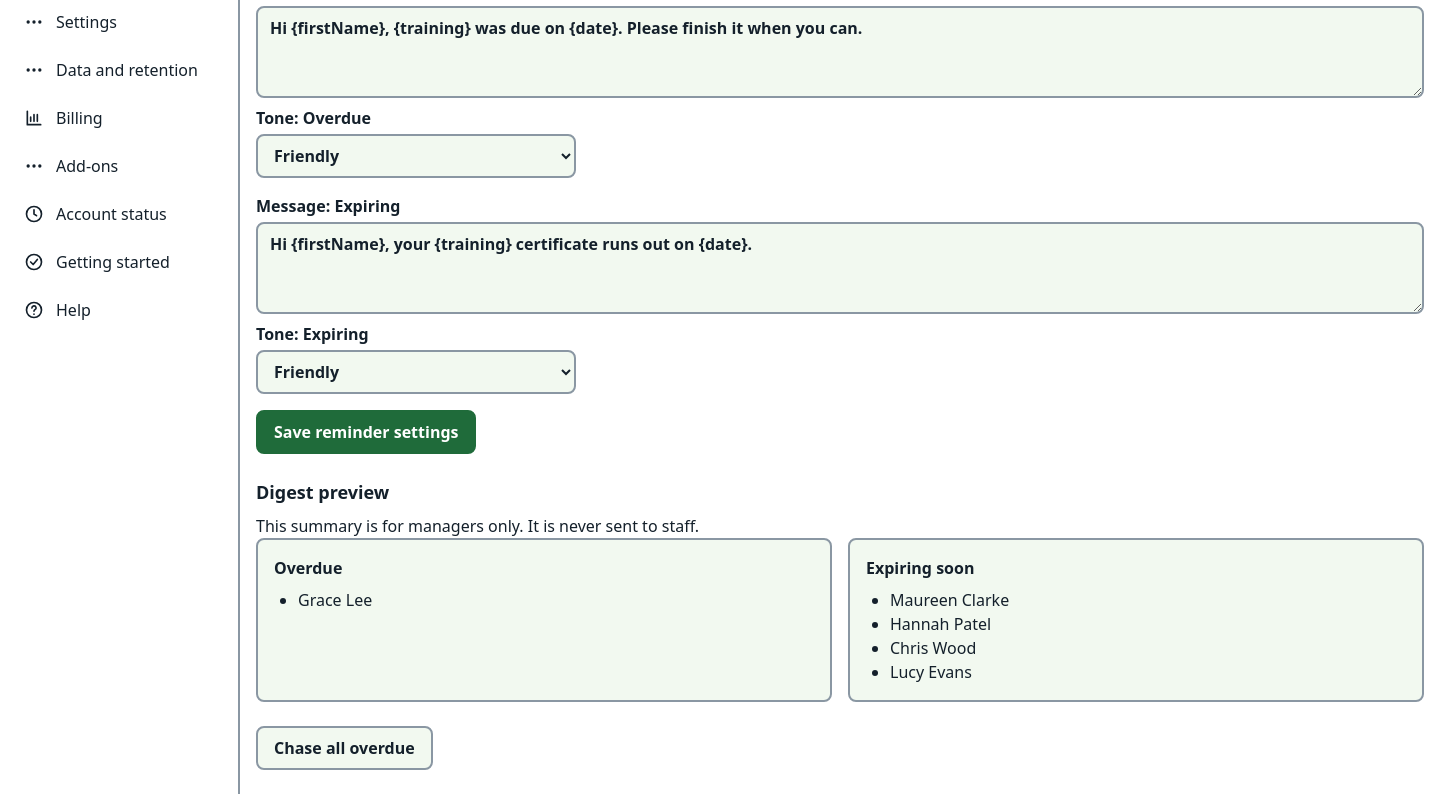
C16 Reminders › explains why people are skipped and offers no send when quiet hours cover now
(page scrolled)
Click the button "Chase all overdue" at (344, 748), box [256,726,433,770]
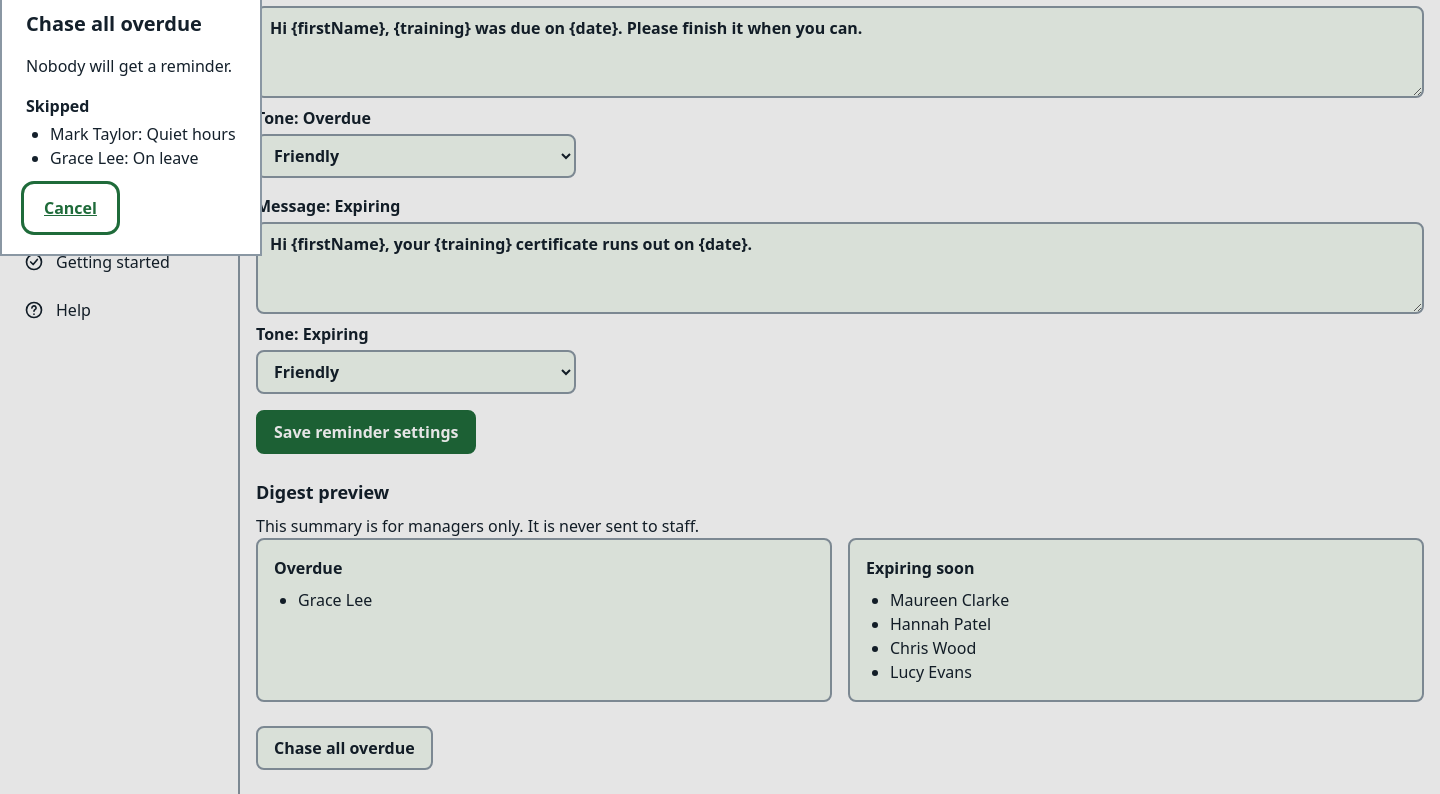
Now the list named "Skipped" shows "Quiet hours", box [146,123,236,145]
Now the text "Nobody will get a reminder." is shown, box [26,54,236,78]
